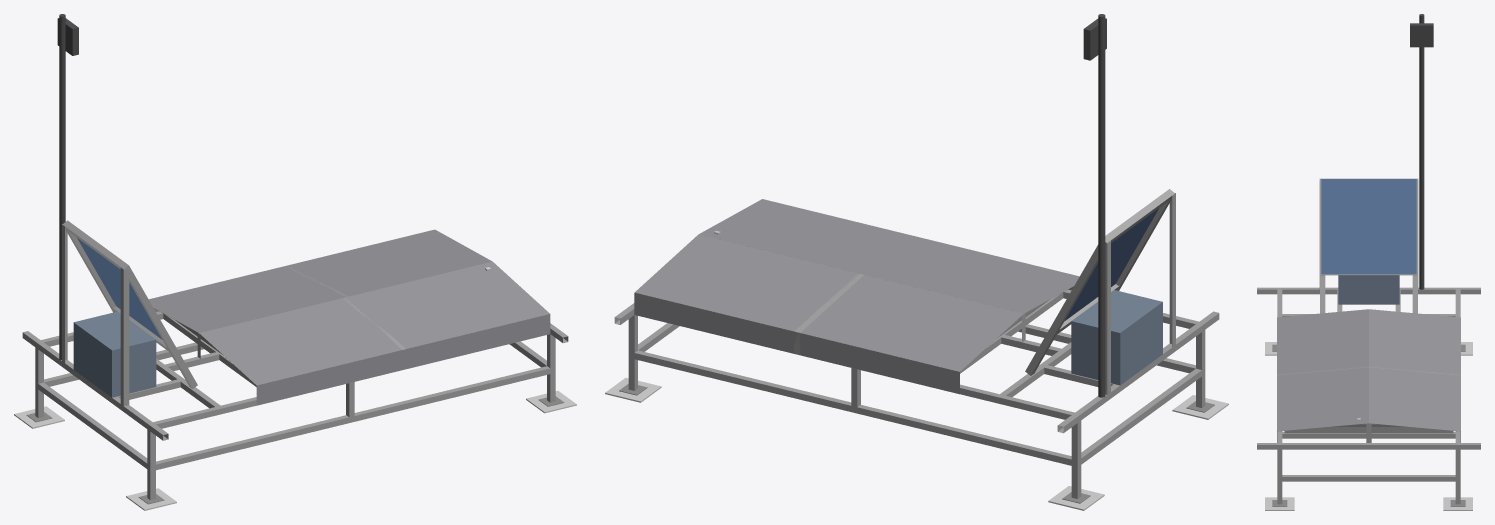
Rendered from TASD00_detector_geometry_from_summary.glb.
3 renders of one model, left to right at view 1: azimuth 30°, elevation 25°; view 2: azimuth 150°, elevation 25°; view 3: azimuth 270°, elevation 25°, orthographic. The views are drawn at different scales.
Parts seen in each view (by area): view 1: RfTop_1, RfTop_-1, RfSide_1, FrBox, FrXa3_posZ, Pole, SolarPanel, FrXa3_posY, FrSPSideL_1, FrSPVertL_495.5, FrZaLong_north_negX, FrZa_6_negX; view 2: RfTop_-1, RfTop_1, RfSide_-1, FrBox, Pole, FrXa4_negZ, SolarPanel, FrXa4_posY, FrSPSideL_-1, FrZaLong_north_negX, FrZa_6_negX, FrZa_6_posY (+1 smaller); view 3: RfTop_-1, RfTop_1, SolarPanel, FrBox, Pole, FrZaLong_south_posX, BoxBottomShort_posX, FrZa_5_posX, FrZaLong_north_posX, FrZa_0_posX, Antenna, FrZaLong_north_posY (+8 smaller).
Part boxes in pixels (<box>): RfTop_1: <box>199,261,549,385</box>; RfTop_-1: <box>149,229,492,332</box>; RfSide_1: <box>256,314,550,405</box>; FrBox: <box>73,311,156,397</box>; FrXa3_posZ: <box>156,368,550,469</box>; Pole: <box>59,14,65,359</box>; SolarPanel: <box>77,238,162,339</box>; FrXa3_posY: <box>156,366,549,464</box>; FrSPSideL_1: <box>124,265,197,388</box>; FrSPVertL_495.5: <box>123,268,129,405</box>; FrZaLong_north_negX: <box>22,332,163,440</box>; FrZa_6_negX: <box>38,384,147,468</box>; RfTop_-1: <box>635,234,1023,371</box>; RfTop_1: <box>699,199,1079,313</box>; RfSide_-1: <box>634,292,959,394</box>; FrBox: <box>1071,290,1162,385</box>; Pole: <box>1098,14,1105,397</box>; FrXa4_negZ: <box>634,353,1071,465</box>; SolarPanel: <box>1064,208,1158,321</box>; FrXa4_posY: <box>635,350,1071,459</box>; FrSPSideL_-1: <box>1025,241,1106,375</box>; FrZaLong_north_negX: <box>1063,313,1219,432</box>; FrZa_6_negX: <box>1081,370,1201,464</box>; FrZa_6_posY: <box>1081,368,1201,457</box>; RfTop_-1: <box>1369,309,1460,431</box>; RfTop_1: <box>1277,309,1368,431</box>; SolarPanel: <box>1321,179,1416,274</box>; FrBox: <box>1338,275,1399,304</box>; Pole: <box>1419,14,1424,289</box>; FrZaLong_south_posX: <box>1257,445,1480,449</box>; BoxBottomShort_posX: <box>1284,427,1453,433</box>; FrZa_5_posX: <box>1282,477,1455,481</box>; FrZaLong_north_posX: <box>1257,289,1480,294</box>; FrZa_0_posX: <box>1282,434,1455,438</box>; Antenna: <box>1410,23,1433,47</box>; FrZaLong_north_posY: <box>1257,287,1480,289</box>.
Size of the model in its own units: 4014 by 3724 by 2260.
